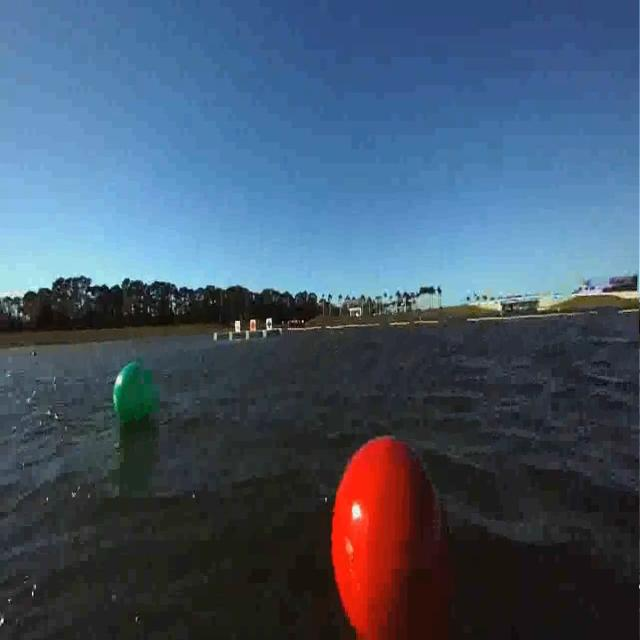green-buoy: (114, 358, 160, 424)
red-buoy: (322, 433, 458, 640)
